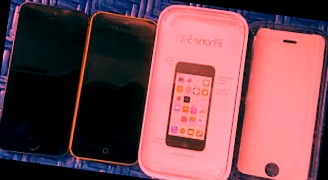iphone: (240, 35, 325, 180)
